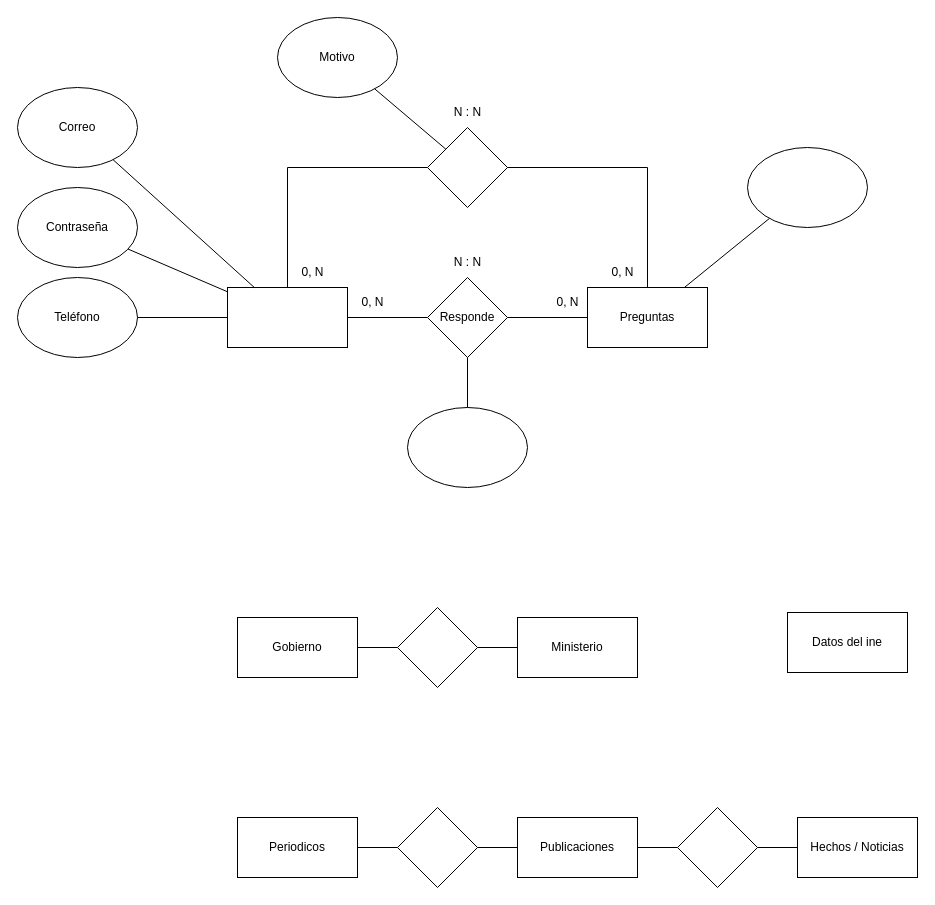
The diagram is 935 pixels wide and 905 high, and some of its shapes have lost their labels. Each missing label, with the centre of its shape:
Ciudadano (user): the point at 287,317
Cuentan: the point at 717,847
Hacen: the point at 437,847
Revisa: the point at 467,167
Texto: the point at 807,187
Valoración 0-4: the point at 467,447
